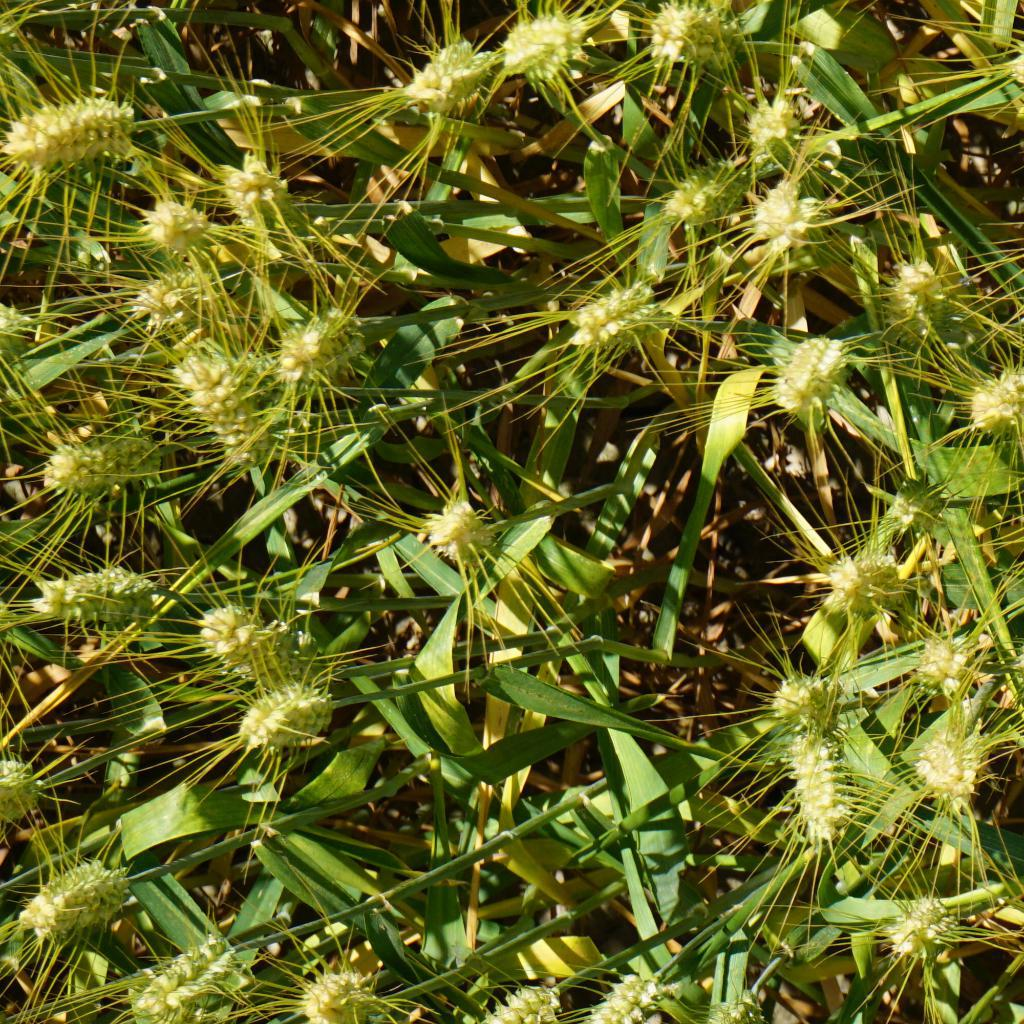0-0: (224, 663, 346, 766), (189, 600, 328, 690), (6, 86, 143, 175), (16, 854, 147, 942), (29, 557, 159, 632), (121, 931, 240, 1008), (183, 356, 265, 466), (783, 726, 854, 837), (572, 277, 657, 362), (49, 421, 128, 509), (496, 7, 586, 84), (417, 490, 500, 570), (277, 301, 354, 386), (415, 31, 500, 106), (770, 330, 850, 409), (655, 0, 740, 74), (884, 891, 961, 970), (476, 967, 578, 1024), (137, 190, 216, 263), (222, 147, 295, 226), (588, 953, 669, 1024), (826, 541, 907, 610), (965, 350, 1024, 442), (279, 965, 370, 1024), (744, 171, 819, 240), (134, 263, 220, 321), (919, 724, 980, 805), (888, 253, 951, 330), (909, 616, 972, 693), (763, 667, 848, 720), (740, 92, 809, 157), (671, 153, 736, 216), (0, 750, 39, 828), (696, 983, 770, 1024), (1008, 0, 1024, 92)
